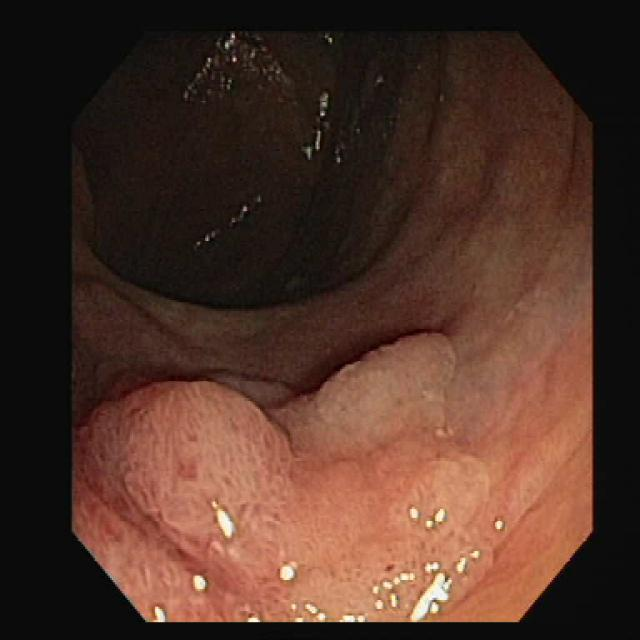tumor: (73, 333, 492, 620)
